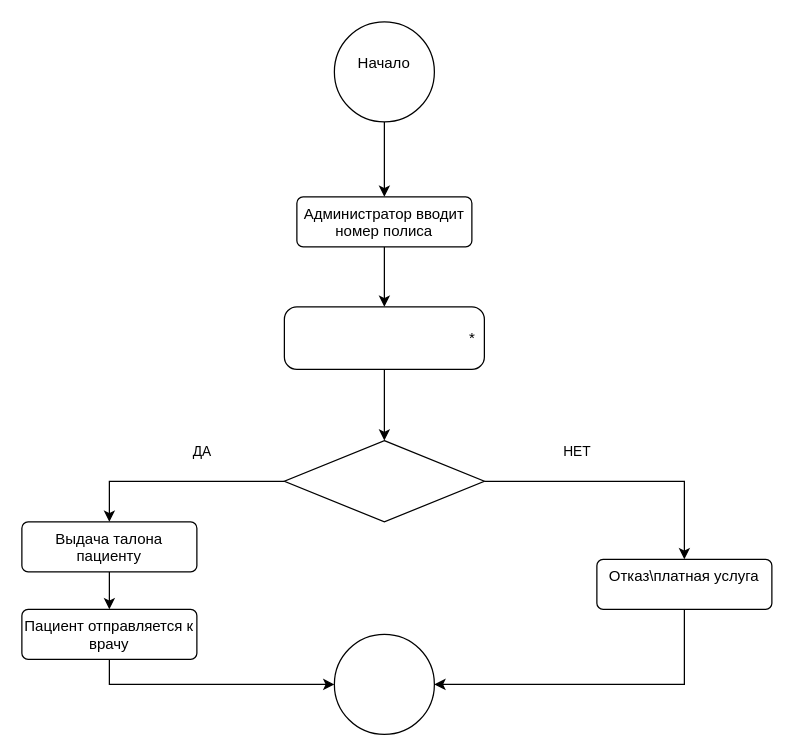
This 794x756 diagram has some shape labels left out. Here are the shapes that lost their labels. From the top down, the box of each, then its label:
(283, 306, 484, 369): МИС отправляет запрос в страховую компанию
(283, 439, 484, 522): Полис действителен?
(333, 633, 434, 734): Конец
